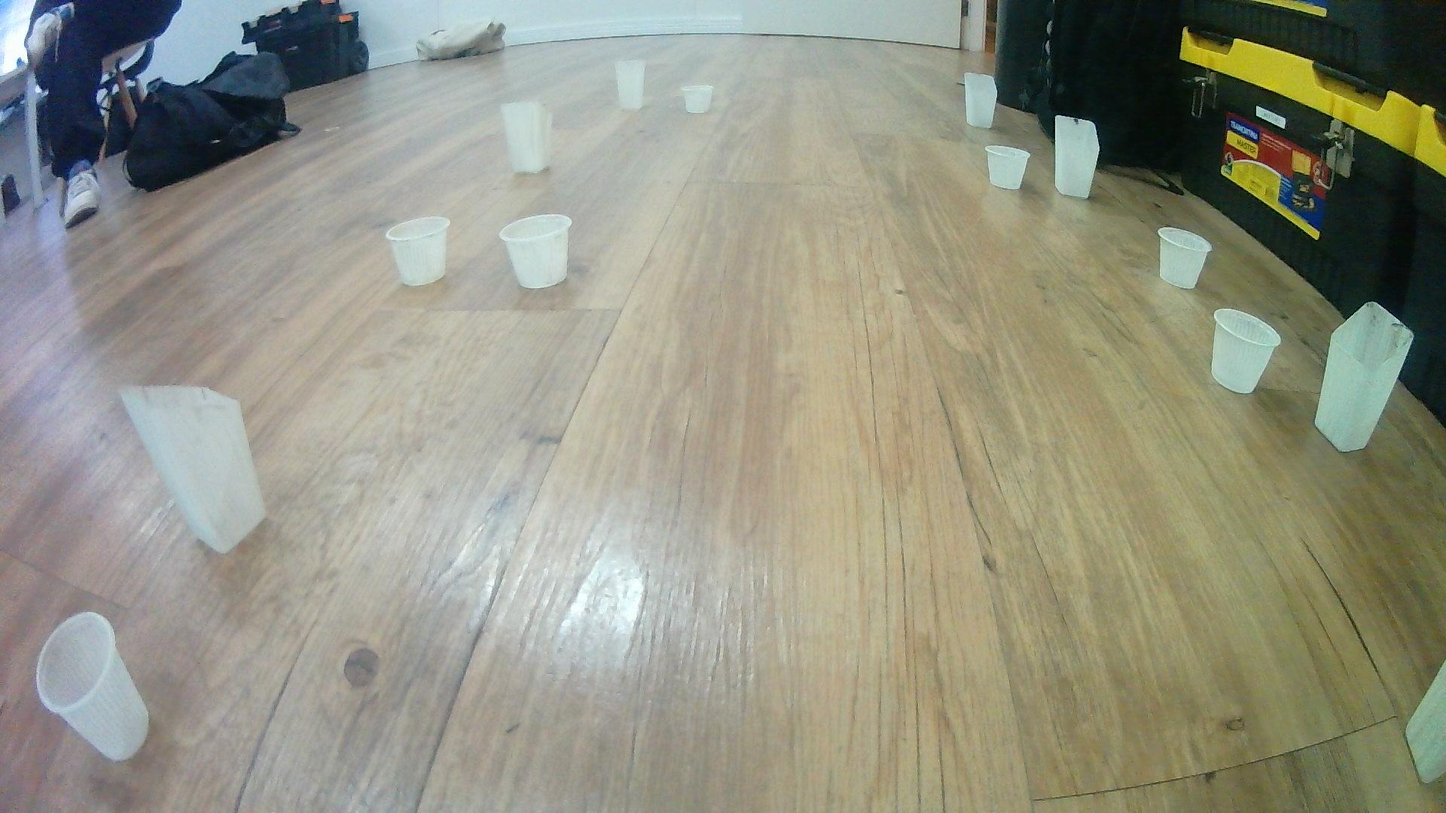vaso_quadrado: (35, 610, 152, 761), (1210, 306, 1283, 395), (499, 212, 574, 292), (385, 213, 452, 288), (1155, 225, 1213, 291), (982, 144, 1031, 191), (682, 84, 715, 115)
vaso_redondo: (117, 382, 268, 556), (1312, 300, 1416, 453), (1405, 659, 1446, 785), (499, 99, 554, 175), (1053, 114, 1102, 199), (962, 71, 999, 130), (615, 59, 646, 111)
